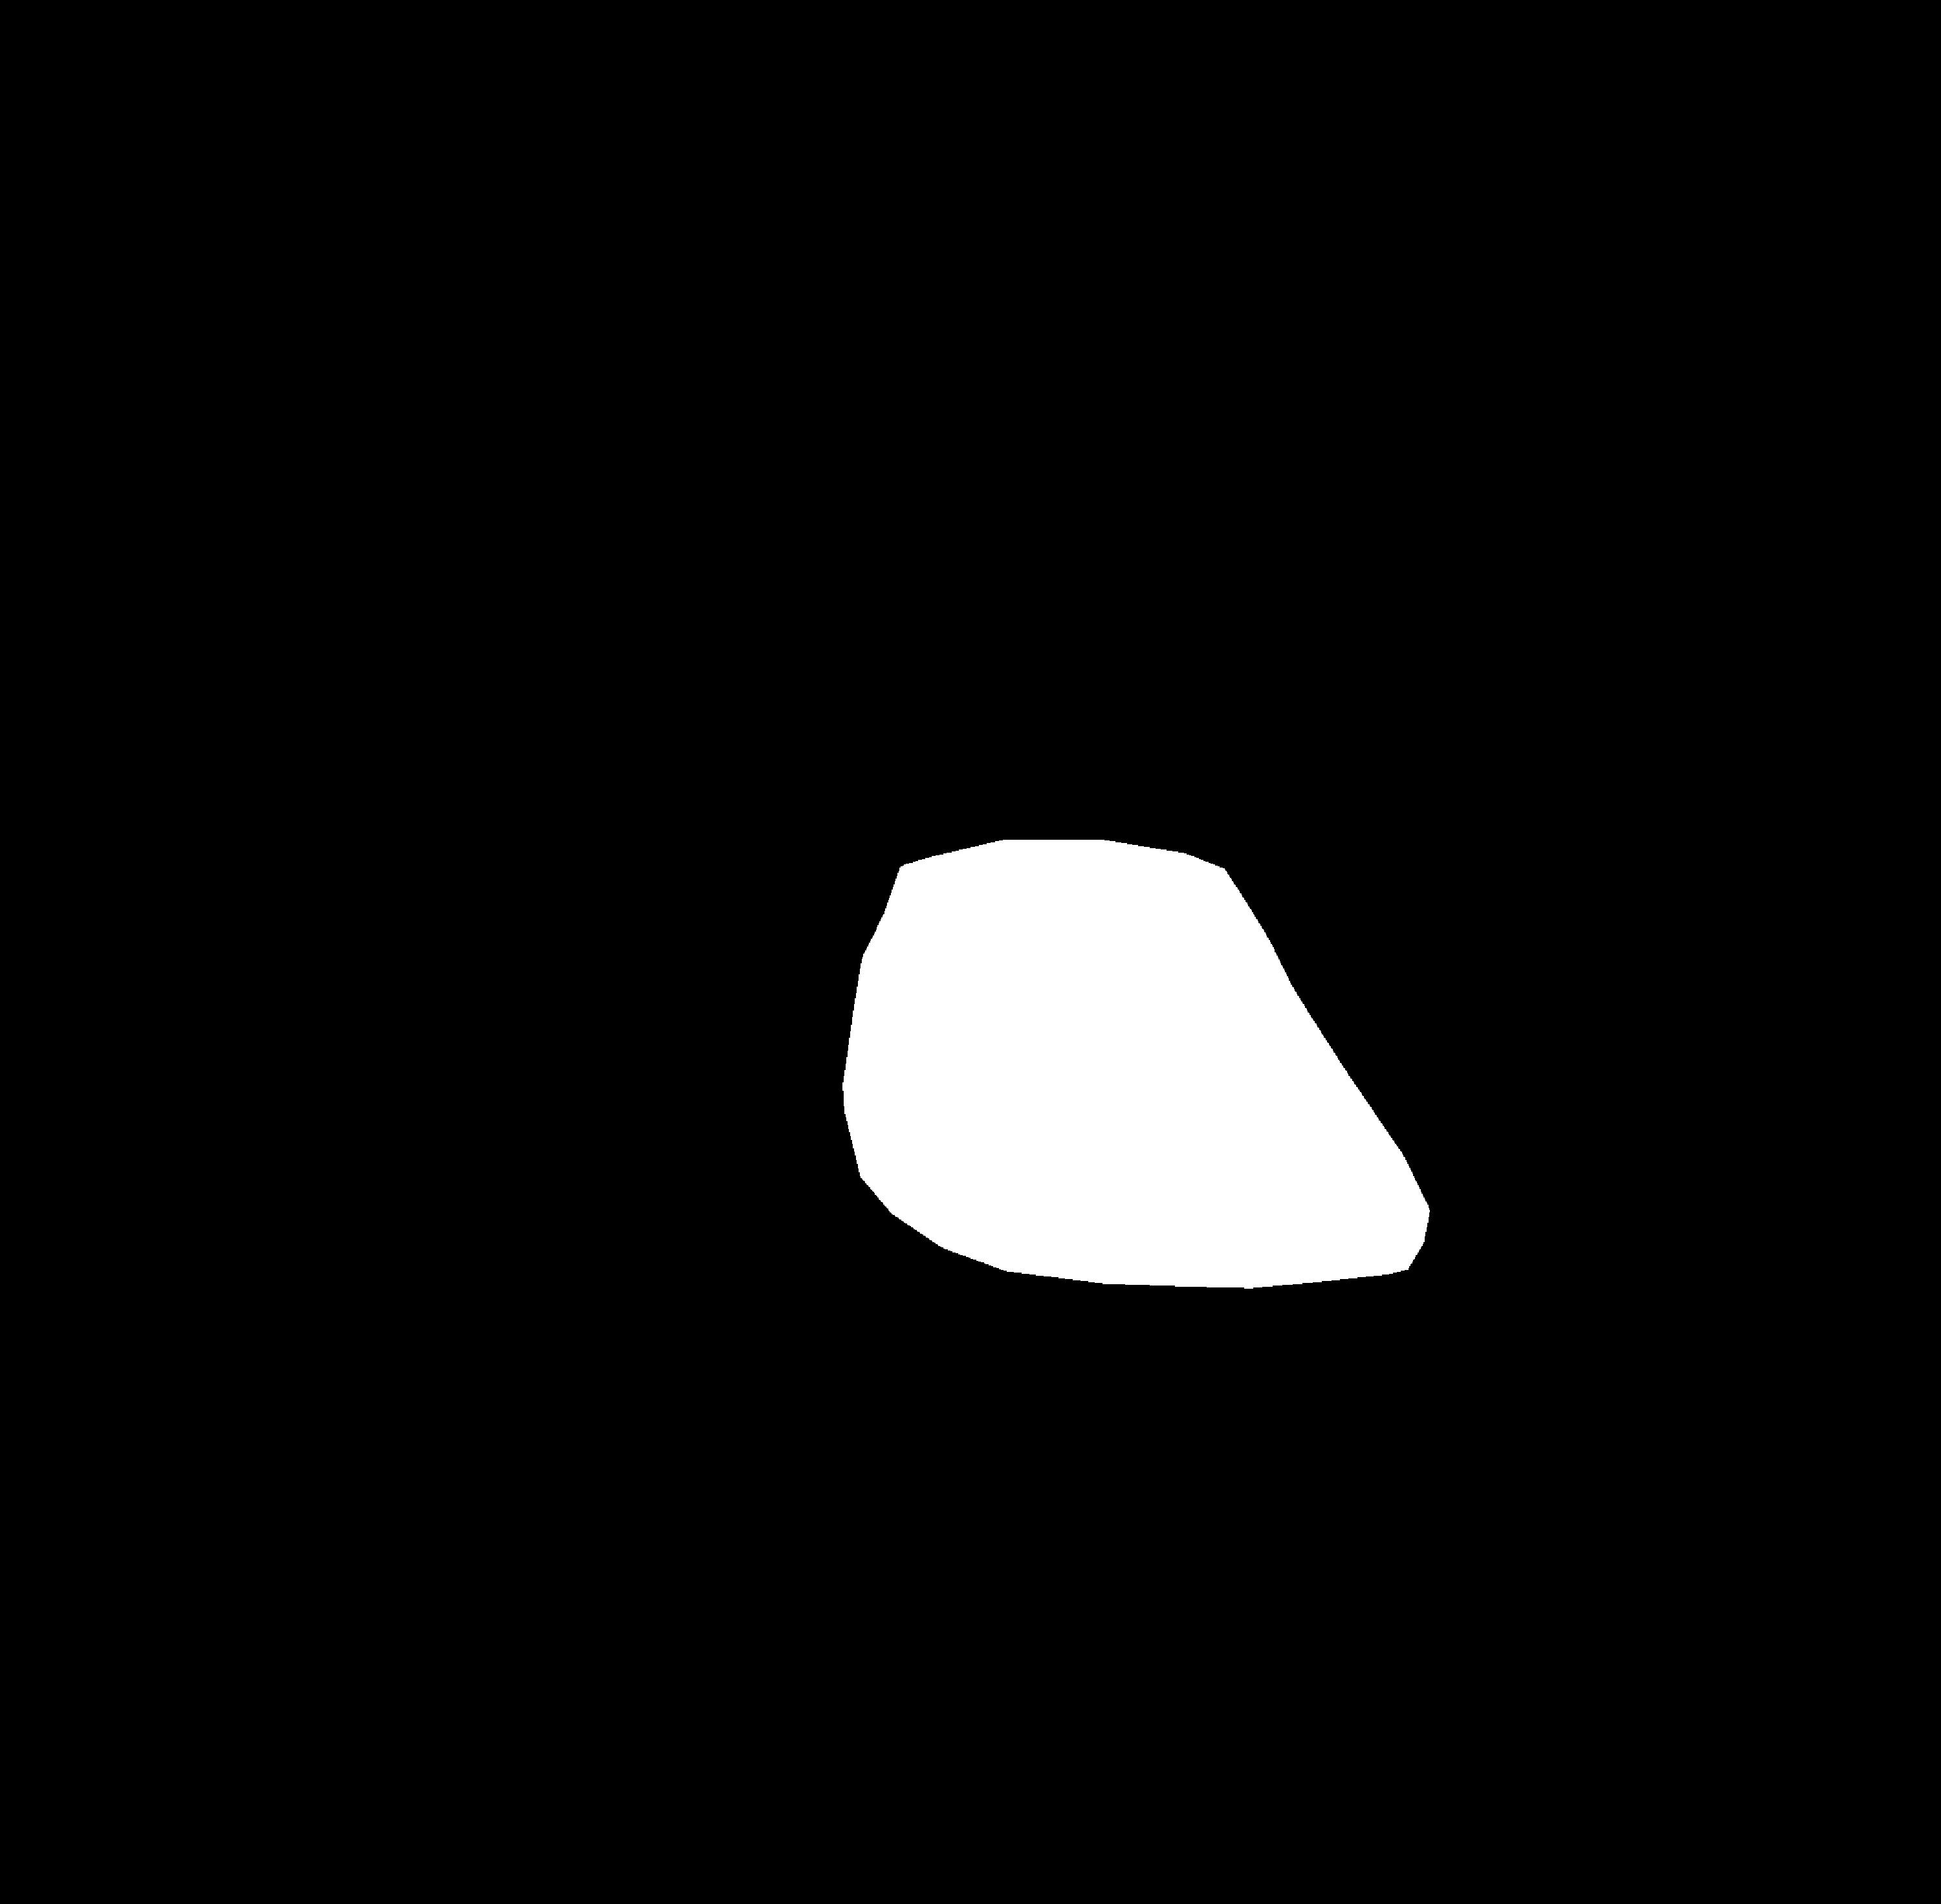heart: (844, 903, 1488, 1348)
left_lung: (284, 337, 928, 1350)
right_lung: (1092, 361, 1690, 1426)
